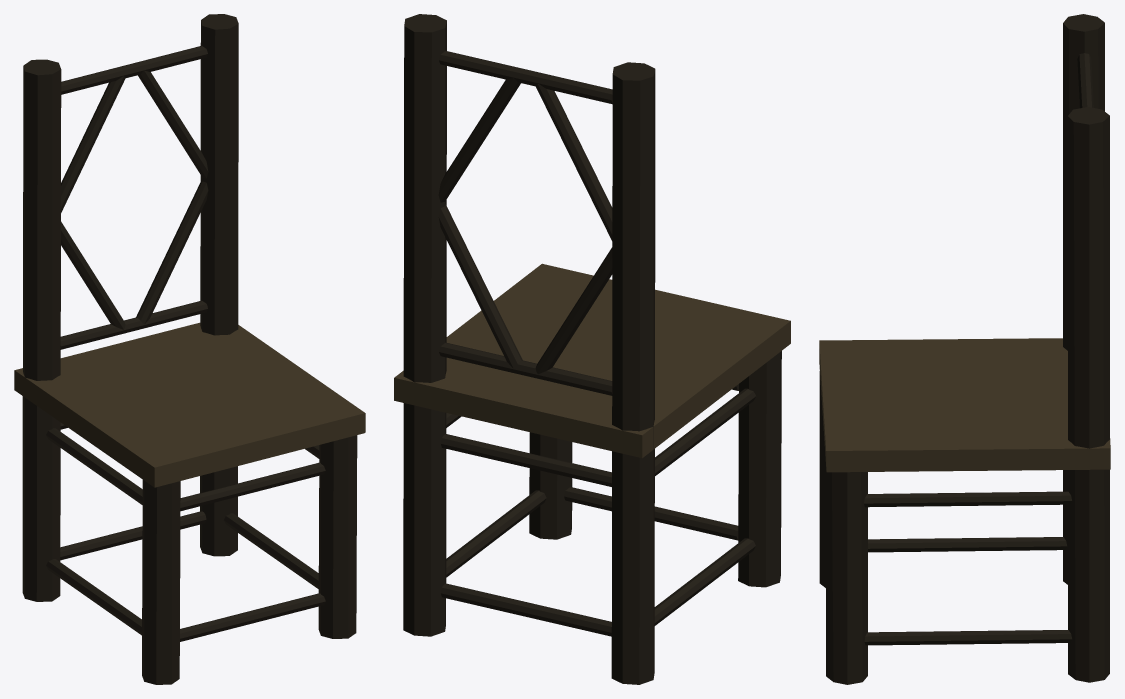
File: chair 1.fbx
3 renders of one model, left to right at view 1: azimuth 30°, elevation 25°; view 2: azimuth 150°, elevation 25°; view 3: azimuth 270°, elevation 25°, orthographic. The views are drawn at different scales.
Parts seen in each view (by area): view 1: polySurface6248, polySurface6251, polySurface6250, polySurface6247, polySurface6249, polySurface6265, polySurface6253, polySurface6252, polySurface6260, polySurface6263, polySurface6261, polySurface6262 (+5 smaller); view 2: polySurface6248, polySurface6251, polySurface6250, polySurface6247, polySurface6249, polySurface6265, polySurface6255, polySurface6254, polySurface6260, polySurface6263, polySurface6261, polySurface6262 (+5 smaller); view 3: polySurface6248, polySurface6250, polySurface6249, polySurface6251, polySurface6256, polySurface6257, polySurface6259, polySurface6247, polySurface6260.
Boxes of the visible parts, x1,y1,x2,y2 form: polySurface6248: [14, 322, 365, 487]; polySurface6251: [22, 59, 61, 601]; polySurface6250: [200, 14, 238, 556]; polySurface6247: [142, 480, 180, 684]; polySurface6249: [318, 435, 357, 638]; polySurface6265: [136, 180, 208, 324]; polySurface6253: [180, 593, 325, 641]; polySurface6252: [180, 462, 325, 511]; polySurface6260: [61, 45, 207, 94]; polySurface6263: [60, 300, 207, 349]; polySurface6261: [61, 76, 125, 212]; polySurface6262: [138, 70, 208, 178]; polySurface6248: [394, 263, 790, 458]; polySurface6251: [611, 62, 655, 684]; polySurface6250: [403, 14, 446, 636]; polySurface6247: [738, 351, 781, 587]; polySurface6249: [529, 432, 572, 539]; polySurface6265: [438, 204, 522, 368]; polySurface6255: [440, 583, 611, 636]; polySurface6254: [440, 434, 611, 486]; polySurface6260: [439, 51, 612, 104]; polySurface6263: [439, 342, 612, 395]; polySurface6261: [535, 84, 612, 240]; polySurface6262: [438, 78, 520, 202]; polySurface6248: [819, 338, 1110, 472]; polySurface6250: [1068, 107, 1109, 682]; polySurface6249: [826, 467, 867, 684]; polySurface6251: [1063, 14, 1104, 584]; polySurface6256: [864, 491, 1071, 507]; polySurface6257: [864, 630, 1072, 645]; polySurface6259: [868, 537, 1067, 552]; polySurface6247: [819, 371, 825, 587]; polySurface6260: [1077, 53, 1093, 108].
Size of the model in its own units: 1.36 by 3.12 by 1.48.
